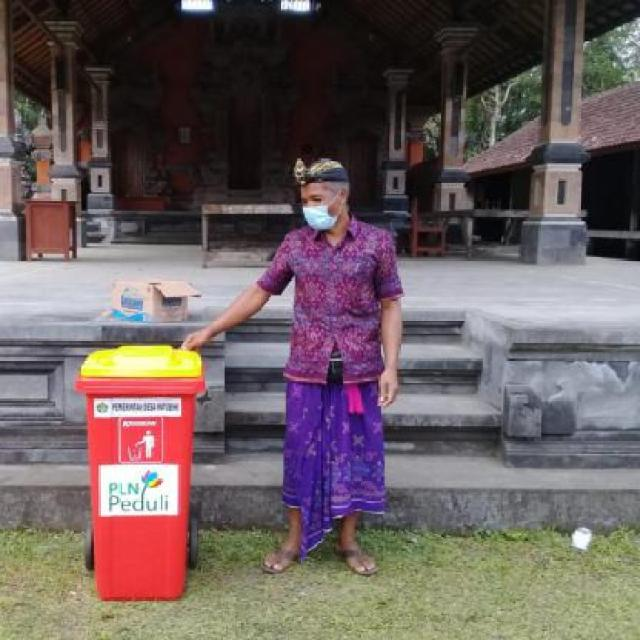garbage container: (70, 338, 216, 612)
